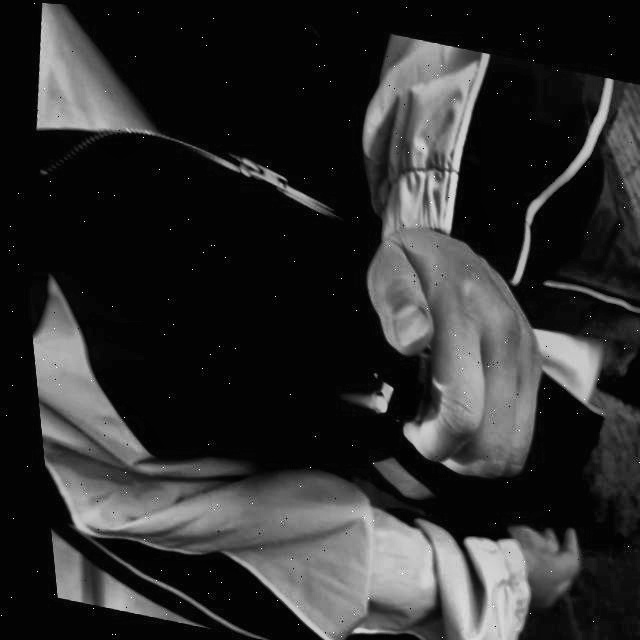Fire: (323, 382, 383, 407)
